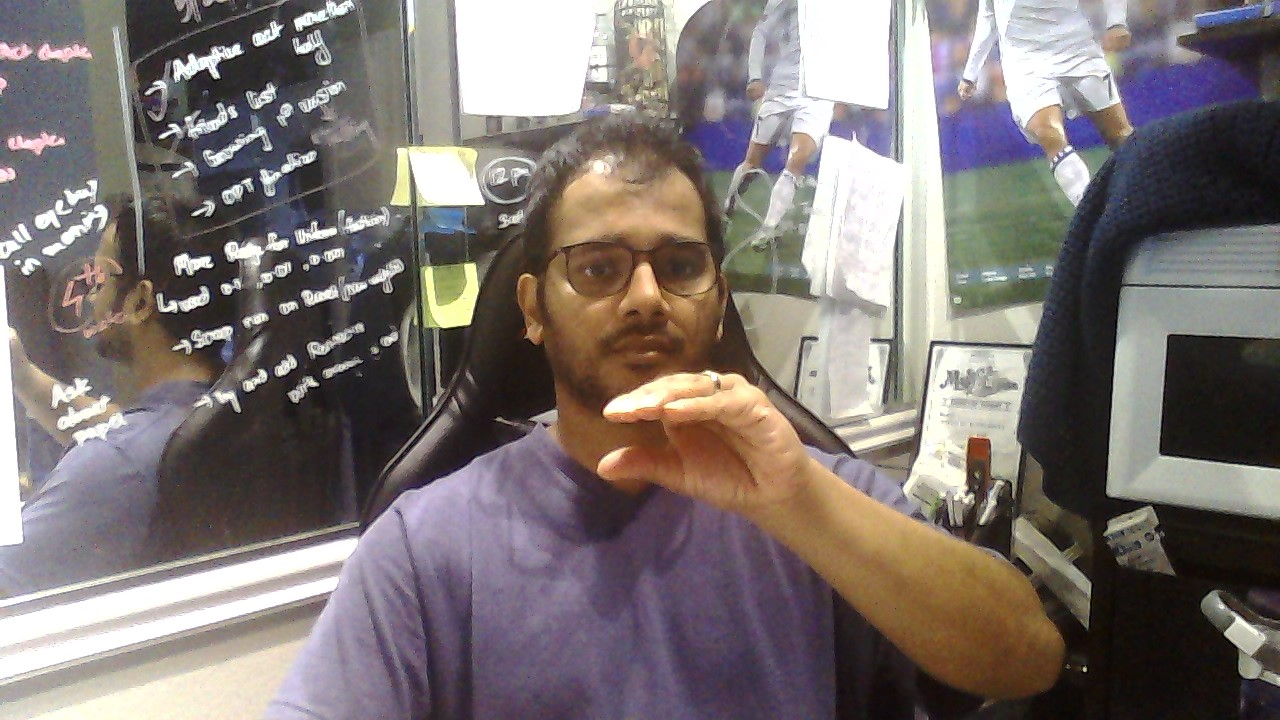No: (595, 369, 805, 510)
